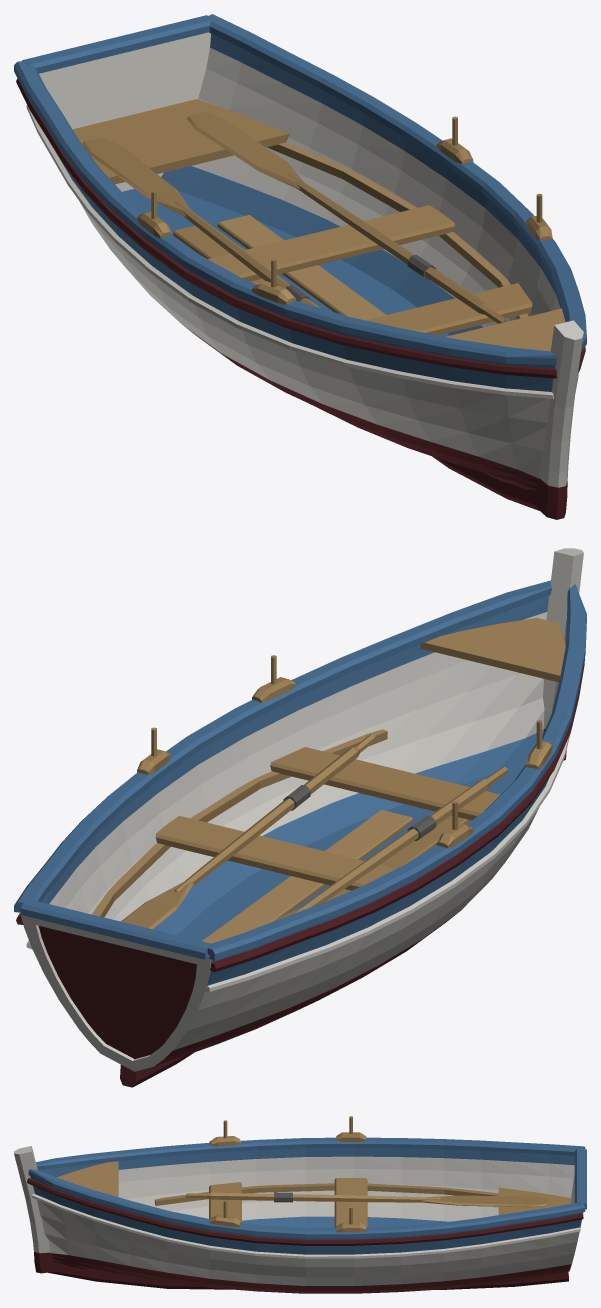
File: painted-rowboat.glb
3 renders of one model, top to bottom at view 1: azimuth 30°, elevation 25°; view 2: azimuth 150°, elevation 25°; view 3: azimuth 270°, elevation 25°, orthographic. The views are drawn at different scales.
Parts seen in each view (by area): view 1: hull, oar-starboard-mesh, oar-port-mesh; view 2: hull, oar-starboard-mesh, oar-port-mesh; view 3: hull, oar-port-mesh.
Boxes of the visible parts, bbox=[...] form: hull: bbox=[14, 14, 586, 519]; oar-starboard-mesh: bbox=[186, 112, 507, 323]; oar-port-mesh: bbox=[82, 137, 319, 307]; hull: bbox=[14, 548, 586, 1087]; oar-starboard-mesh: bbox=[121, 734, 375, 929]; oar-port-mesh: bbox=[268, 766, 507, 923]; hull: bbox=[14, 1116, 586, 1293]; oar-port-mesh: bbox=[186, 1192, 547, 1207].
Bounding box in the file's own units: 1.44 × 0.9819 × 3.65.
